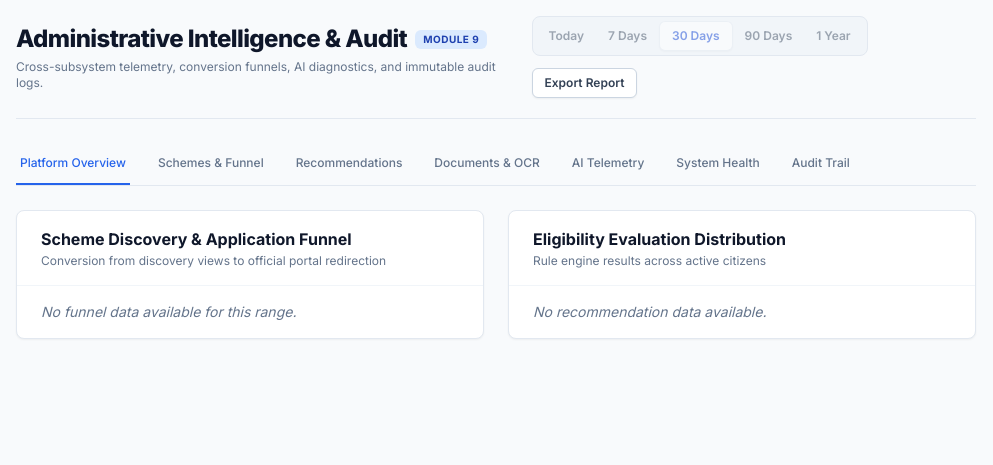
Test case: AdminAnalyticsDashboardPage (Module 9) › navigates to Audit Trail tab and displays logs
Step 1. Click the button "Audit Trail" → (821, 164), box top-left (788, 143), bottom-right (854, 185)
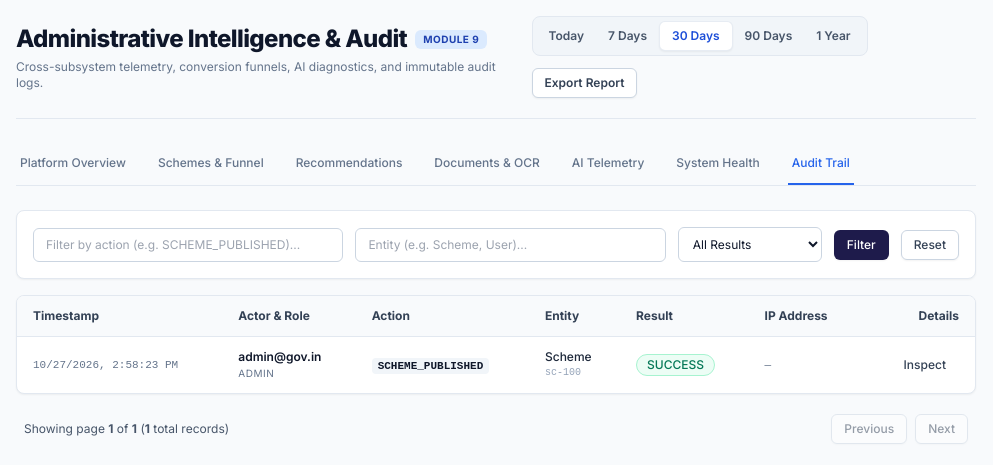
Result: the element with test id "audit-log-table-container" is shown at top-left (16, 210), bottom-right (976, 448)
Result: the text "SCHEME_PUBLISHED" is shown at top-left (372, 358), bottom-right (489, 374)
